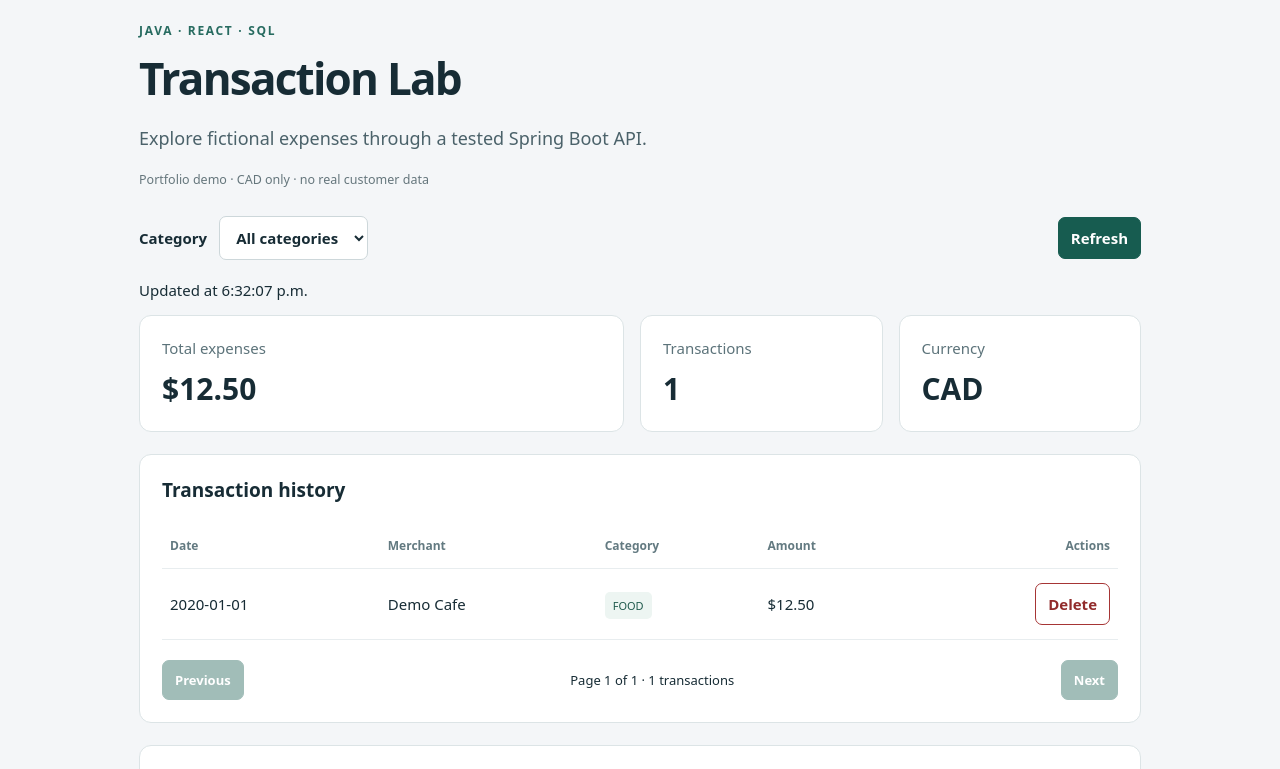
Scenario: keeps the row and displays an error when deletion fails
The width and height of the screenshot is (1280, 769).
Check: the text "Demo Cafe" is shown, box [380,568,597,640]
Click the button with aria-label "Delete expense at Demo Cafe": (1073, 604) [1035,583,1110,625]
(page scrolled)
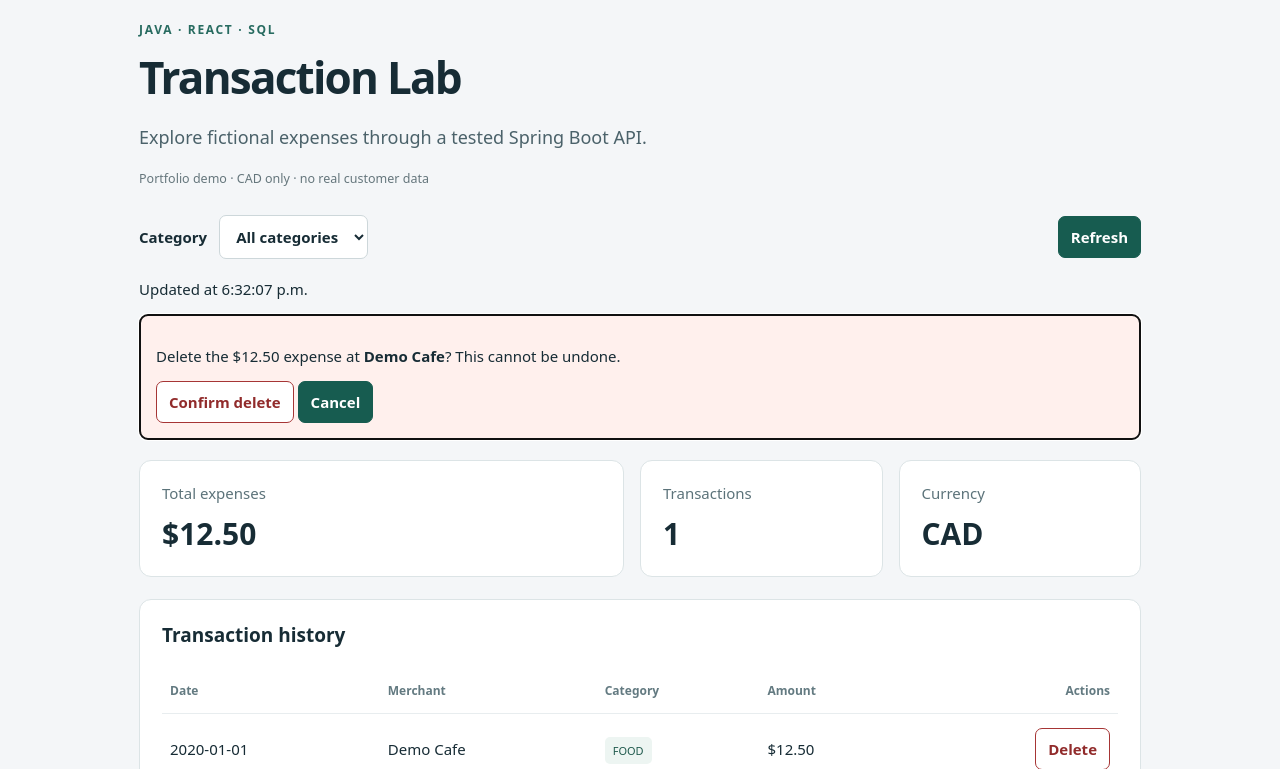
Click the button "Confirm delete": (225, 402) [156,381,294,423]
(page scrolled)
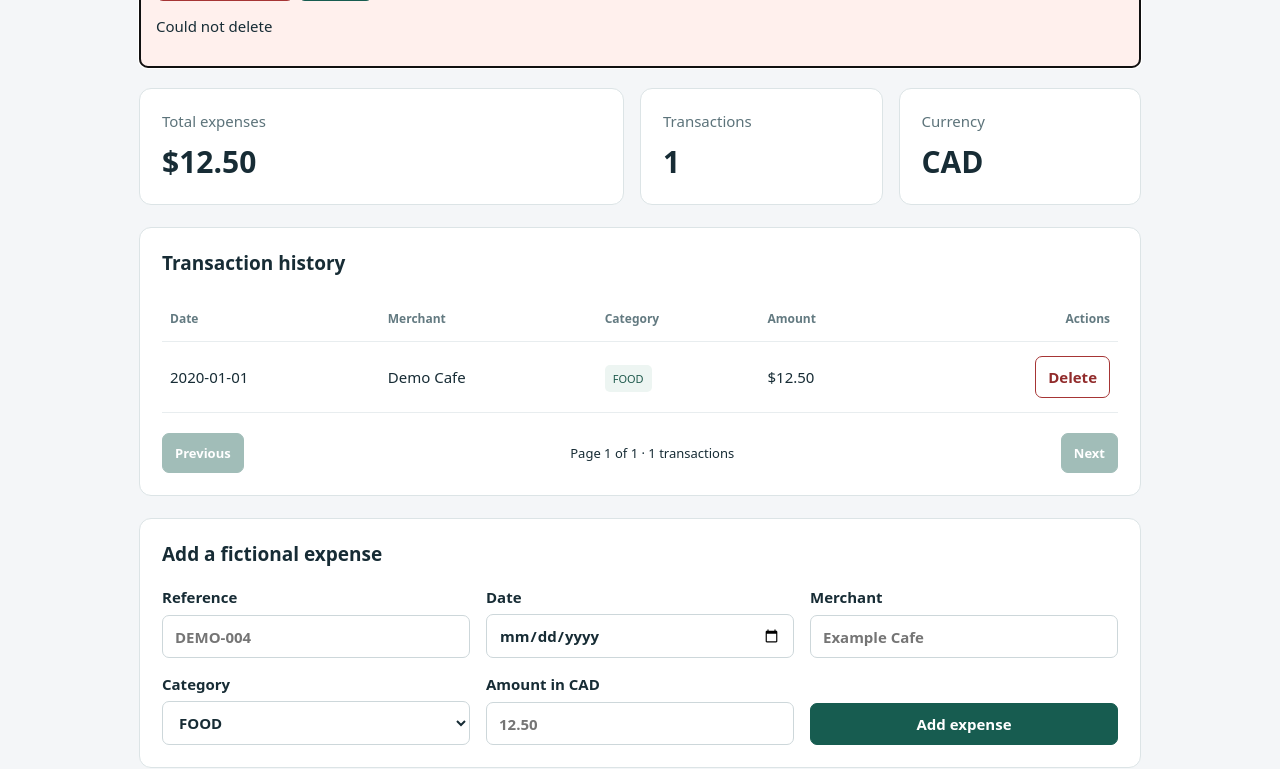
Check: the cell "Demo Cafe" is shown, box [380,342,597,412]
Check: the message reads "Could not delete", box [156,16,272,36]
